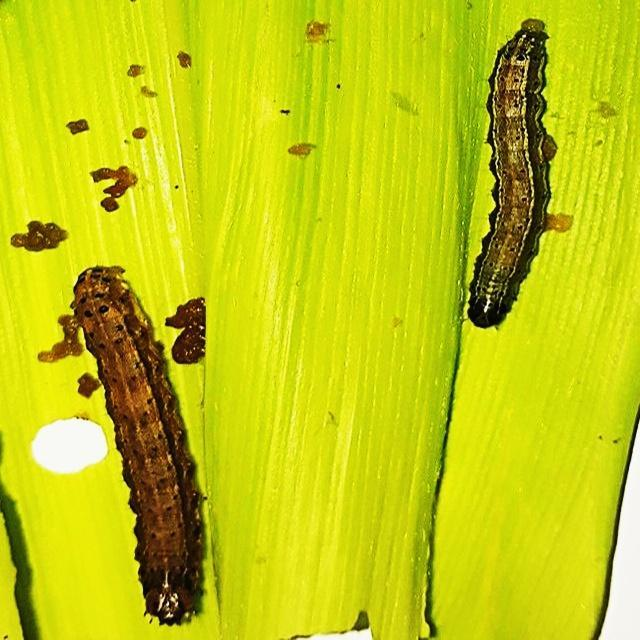Plaga: (71, 258, 206, 628), (466, 23, 551, 328)
